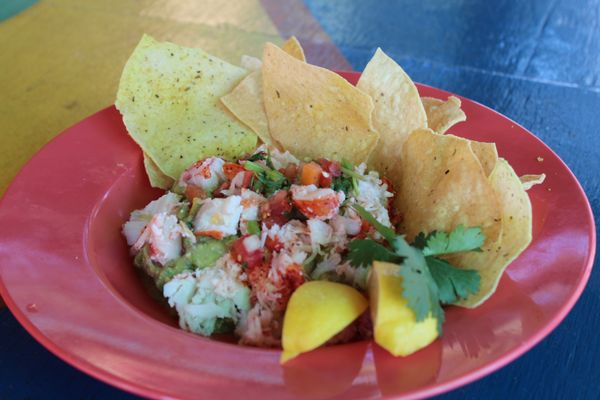curry: (1, 0, 558, 392)
